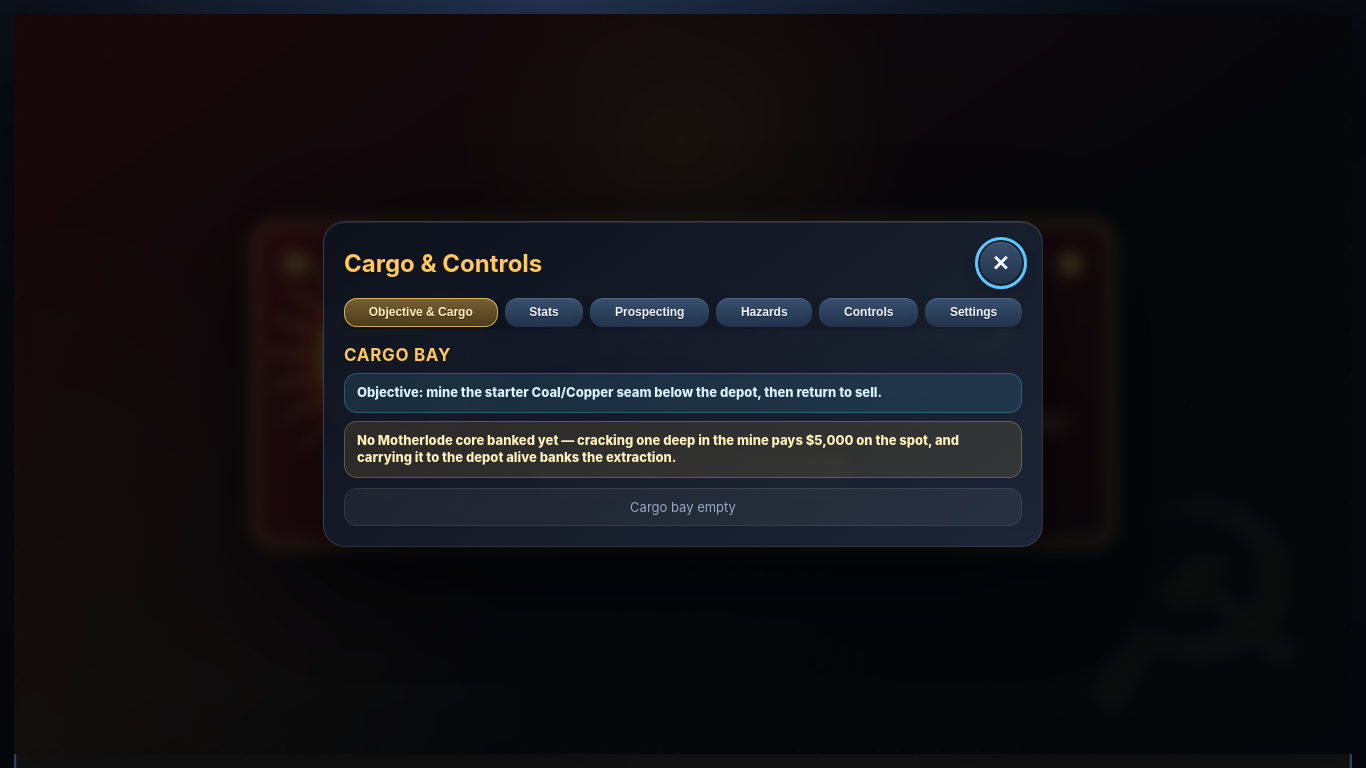
Test: info dialog tabs › shows one panel at a time and moves selection on click
Expected: the panel with id "info-objective" is shown, left=344, top=345, right=1022, bottom=526
Click the tab with id "info-tab-stats".
click(544, 313)  # box left=504, top=298, right=583, bottom=327
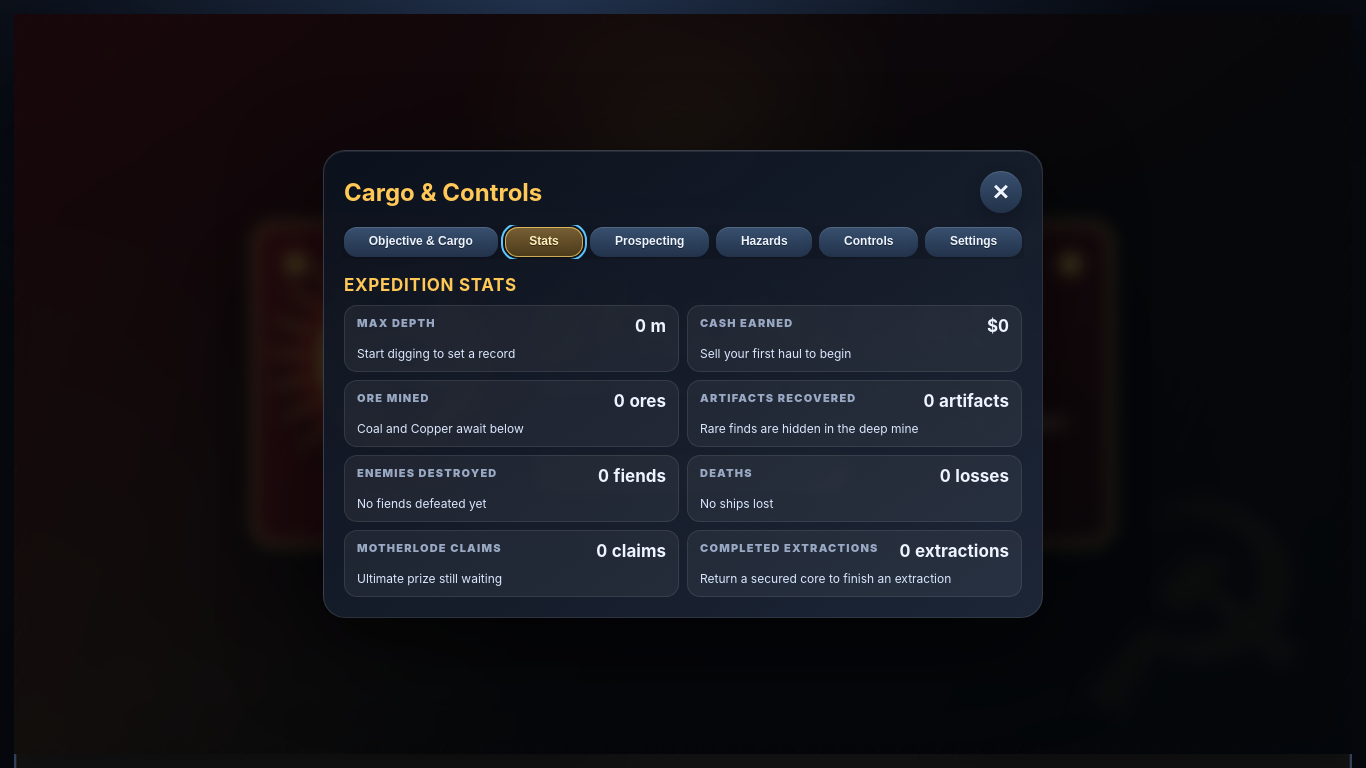
Result: the panel with id "info-stats" is shown at left=344, top=275, right=1022, bottom=597
Result: the panel with id "info-objective" is gone
